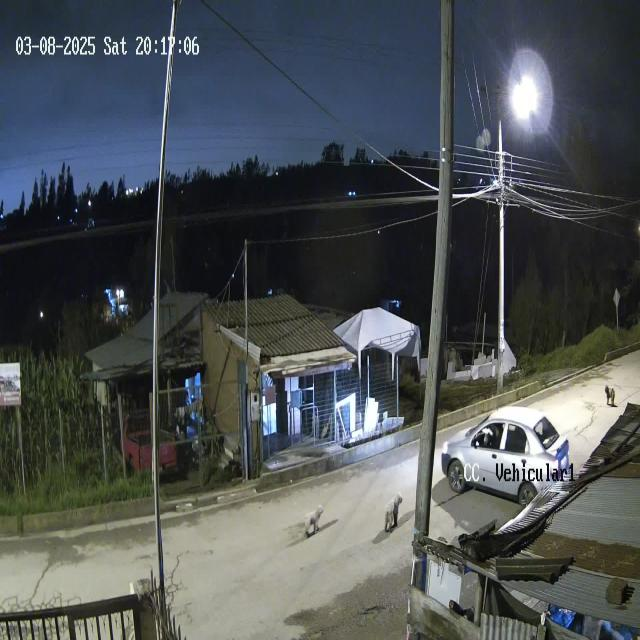SED: (440, 404, 572, 504)
